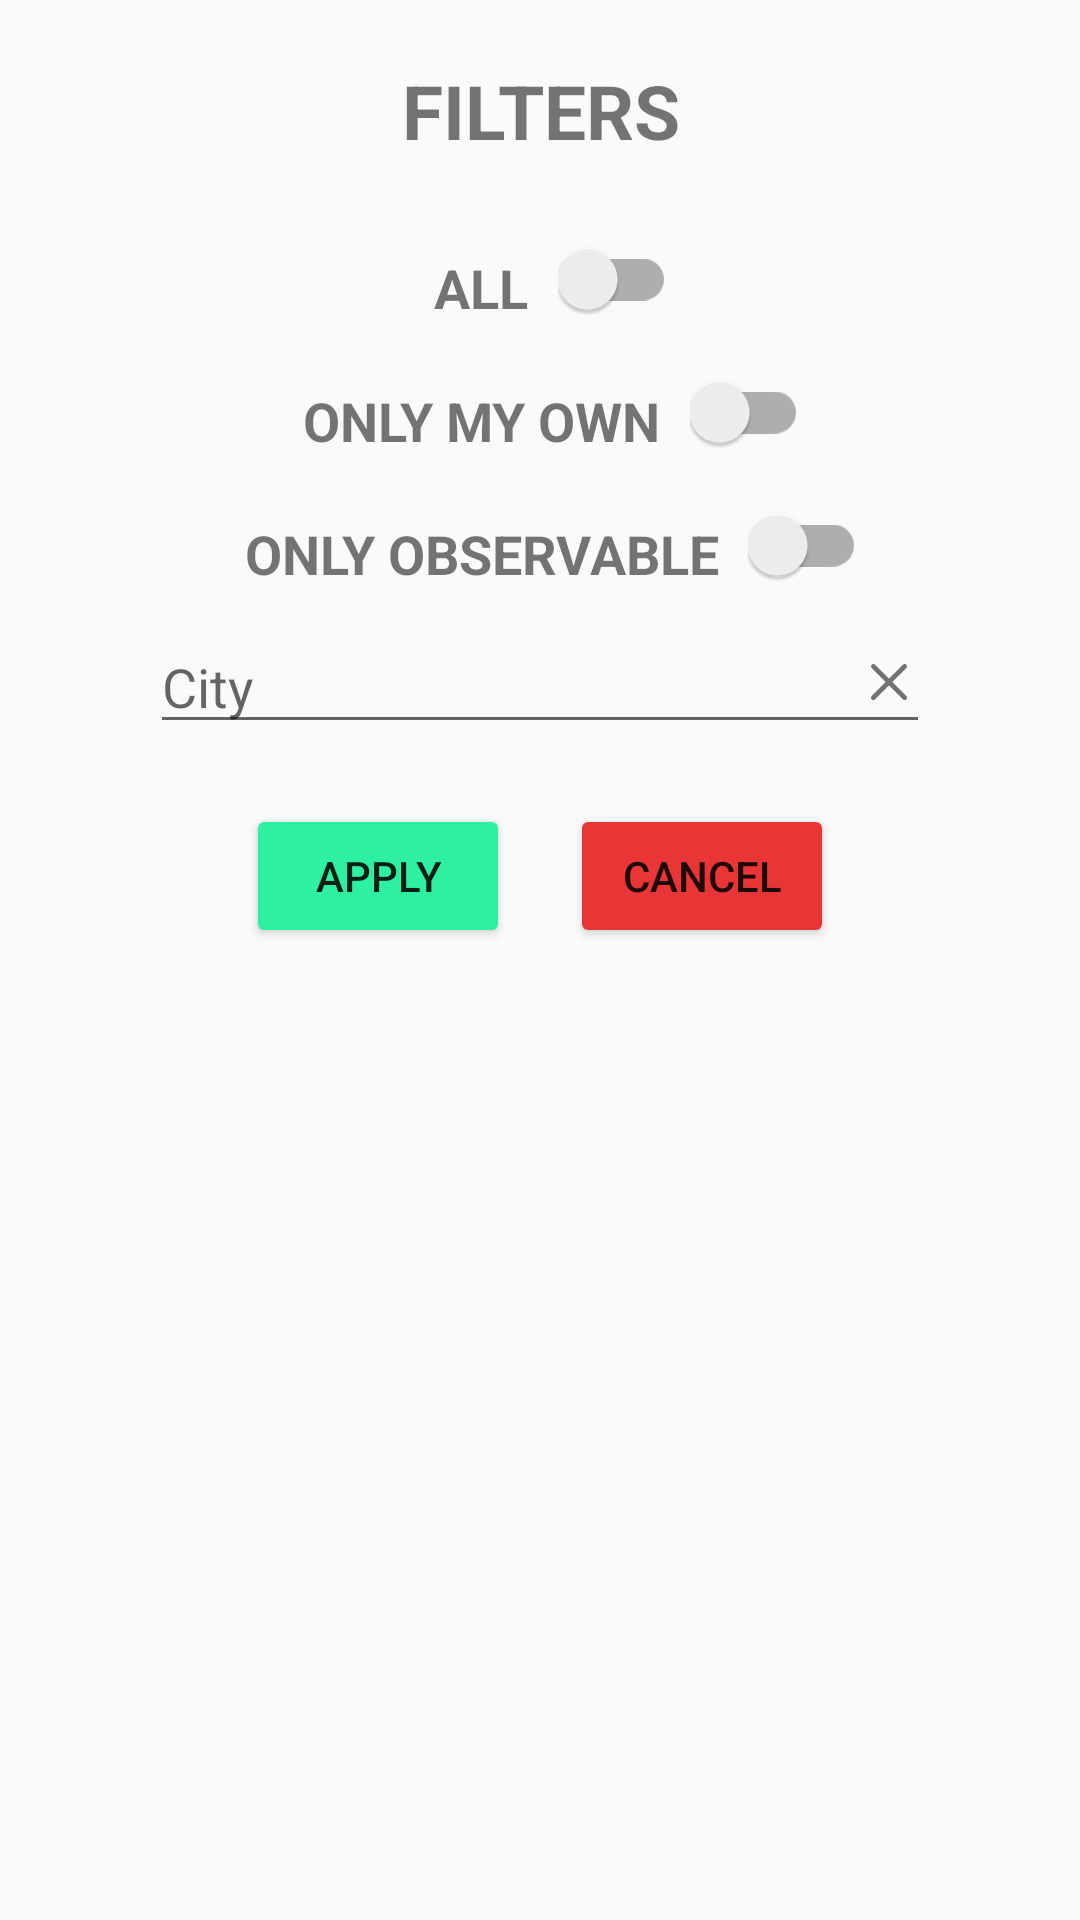

Where icons sit on this 1080 x 1920 app screen, as [x1=x1, y1=y1, x2=x2, y2=y2]:
close: [x1=871, y1=664, x2=907, y2=700]
